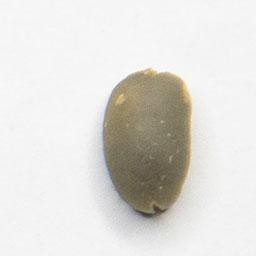peaberry: (98, 62, 197, 219)
